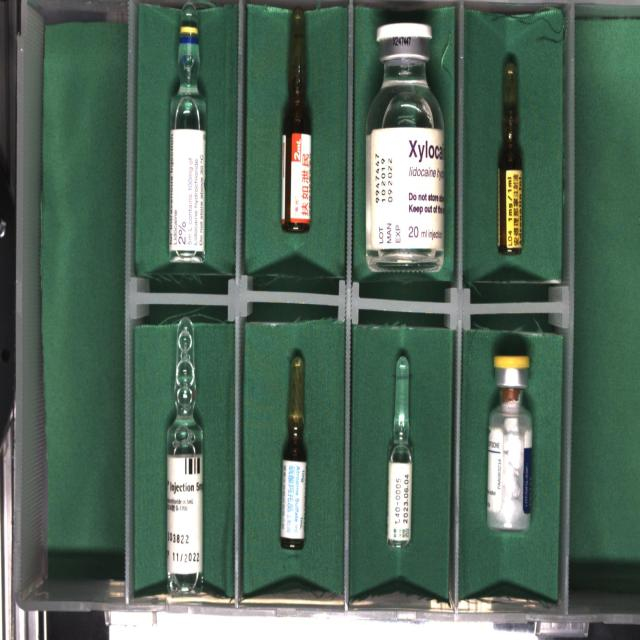Vials: (366, 22, 444, 271), (487, 356, 532, 531)
